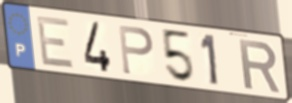1: (197, 33, 220, 88)
4: (83, 21, 113, 74)
5: (159, 28, 197, 84)
E: (34, 15, 77, 71)
P: (116, 23, 155, 77)
R: (237, 37, 283, 94)
